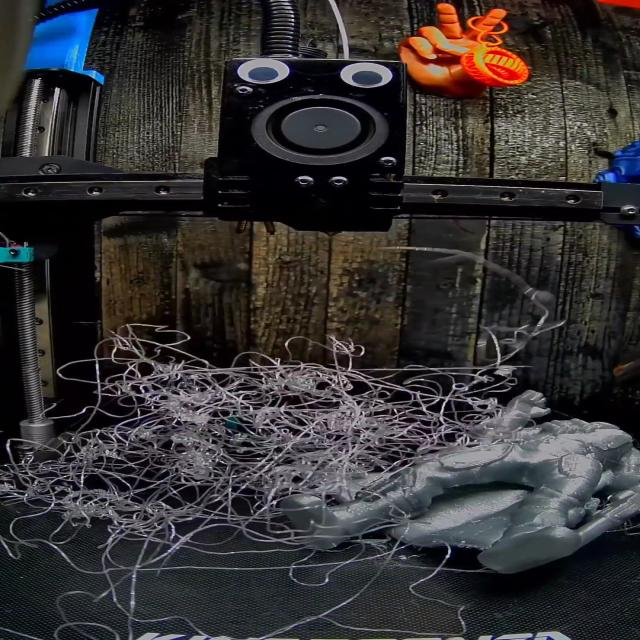spaghetti: (21, 323, 483, 550)
